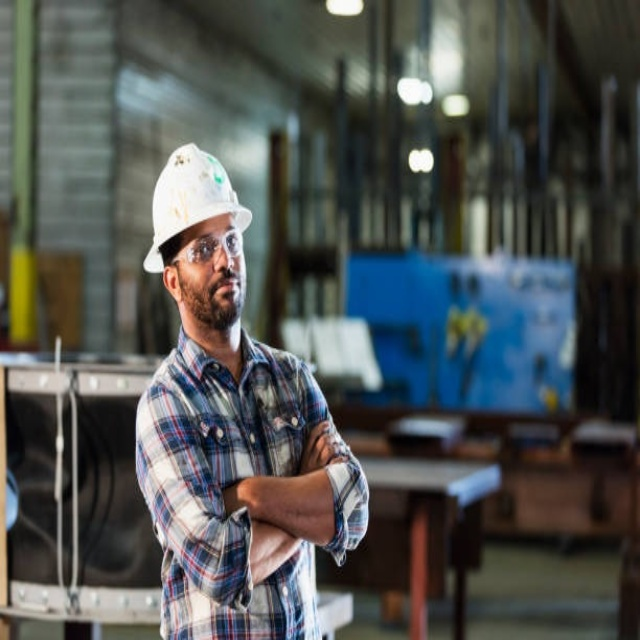Gafas: (172, 228, 245, 266)
Sin_guantes: (302, 421, 345, 473)
Sin_mascara: (205, 268, 244, 309)
